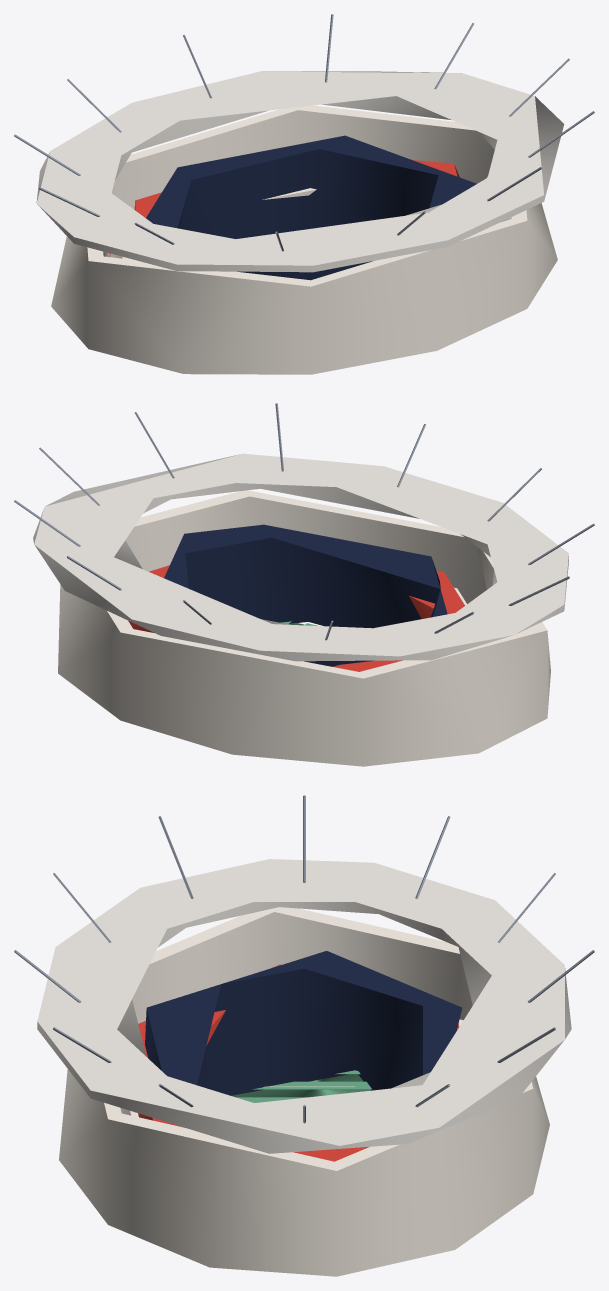
File: stadium.glb
3 renders of one model, top to bottom at view 1: azimuth 30°, elevation 25°; view 2: azimuth 150°, elevation 25°; view 3: azimuth 270°, elevation 25°, orthographic. The views are drawn at different scales.
Visible parts, largest first — view 1: stadium; view 2: stadium; view 3: stadium.
Part boxes in pixels (bbox=[...]): stadium: bbox=[14, 14, 594, 374]; stadium: bbox=[14, 403, 594, 766]; stadium: bbox=[14, 795, 594, 1276].
Bounding box in the file's own units: 76.7 × 22.17 × 60.62.
Materials: 1 (1 with a texture image).
